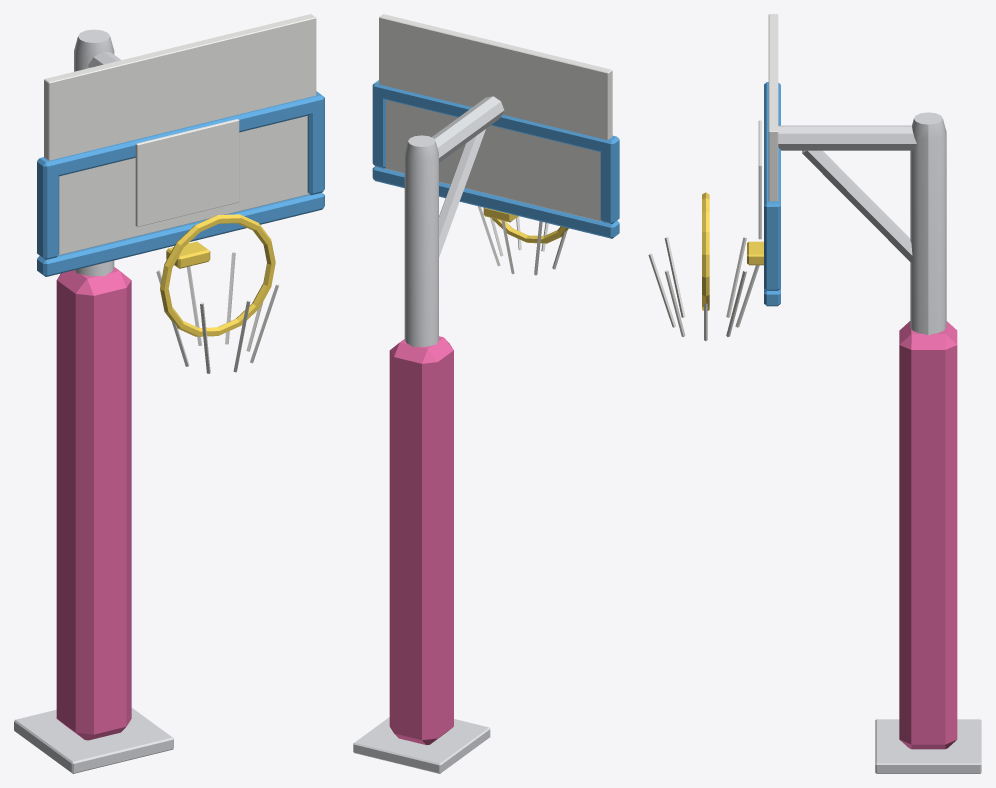
File: trampoline-park-and-soft-play-basketball-dunk-hoop-58e31467.glb
3 views of the same model, side by side, from view 1: azimuth 30°, elevation 25°; view 2: azimuth 150°, elevation 25°; view 3: azimuth 270°, elevation 25° (orthographic). The views are drawn at different scales.
Visible parts, largest first — view 1: basketball-dunk-hoop, rim, rim/pale; view 2: basketball-dunk-hoop, rim/pale, rim; view 3: basketball-dunk-hoop, rim/pale, rim.
Boxes of the visible parts, x1=… form: basketball-dunk-hoop: x1=14, y1=14, x2=324, y2=773; rim: x1=160, y1=214, x2=275, y2=336; rim/pale: x1=156, y1=252, x2=278, y2=373; basketball-dunk-hoop: x1=353, y1=14, x2=619, y2=773; rim/pale: x1=477, y1=206, x2=567, y2=275; rim: x1=483, y1=207, x2=568, y2=243; basketball-dunk-hoop: x1=758, y1=14, x2=981, y2=773; rim/pale: x1=648, y1=237, x2=759, y2=340; rim: x1=702, y1=192, x2=763, y2=310.
Bounding box in the file's own units: 1.21 × 3.1 × 1.38.
